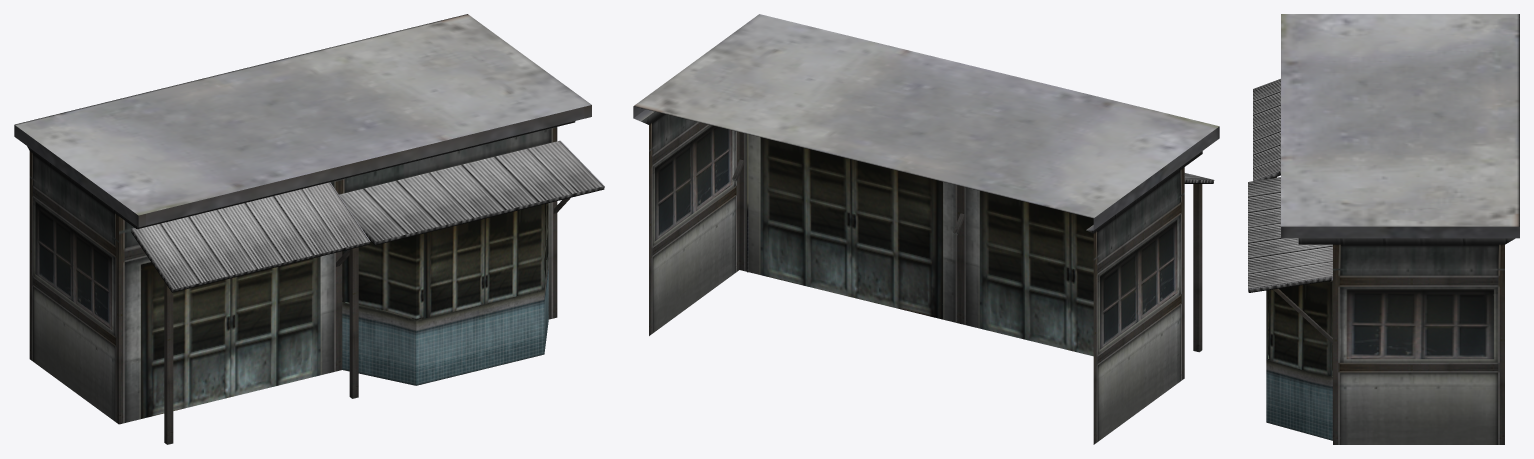
Rendered from sangga_japan2.FBX.
The picture shows the model from 3 angles, left to right: view 1: azimuth 30°, elevation 25°; view 2: azimuth 150°, elevation 25°; view 3: azimuth 270°, elevation 25°; orthographic projection. The views are drawn at different scales.
Parts seen in each view (by area): view 1: Object001, Object002, Object003; view 2: Object001, Object002; view 3: Object001, Object003, Object002.
Part boxes in pixels (x1,y1,x2,y2): Object001: (14,14,591,424); Object002: (131,182,370,444); Object003: (336,140,604,266); Object001: (633,14,1219,444); Object002: (1184,173,1214,352); Object001: (1266,14,1519,444); Object003: (1248,177,1332,343); Object002: (1253,79,1280,181).
Bounding box in the file's own units: 50.88 × 24.72 × 27.47.
Materials: 1 (1 with a texture image).
